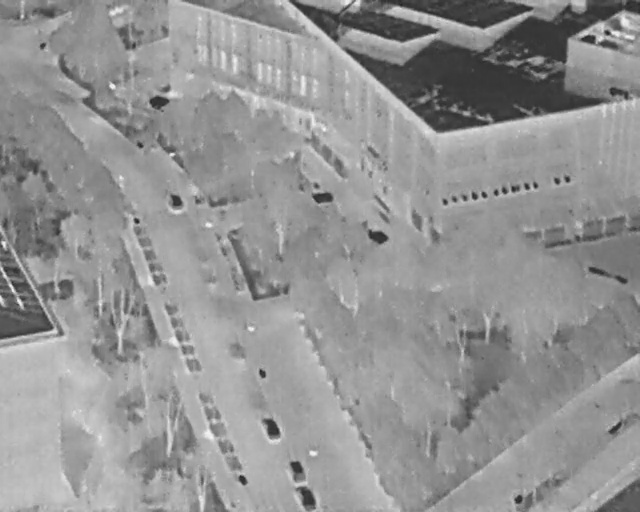Car: (295, 483, 317, 511), (260, 415, 282, 442), (286, 458, 307, 485), (166, 190, 184, 212)
